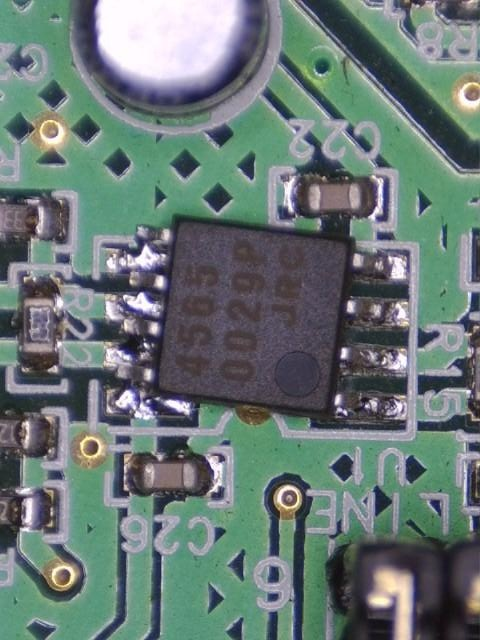pcb_defect: (103, 215, 412, 420), (105, 225, 192, 417)
